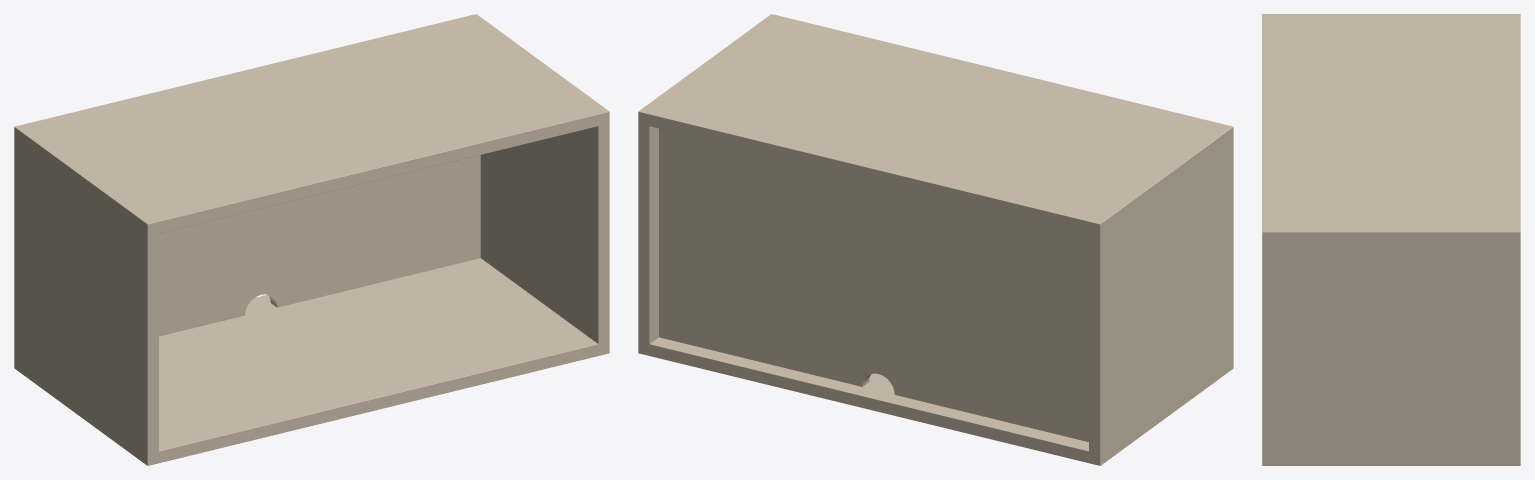
File: MOD-2X1-A-B-AP-AR.glb
3 views of the same model, side by side, from view 1: azimuth 30°, elevation 25°; view 2: azimuth 150°, elevation 25°; view 3: azimuth 270°, elevation 25° (orthographic). The views are drawn at different scales.
Bounding box in the file's own units: 720 × 360 × 360.
